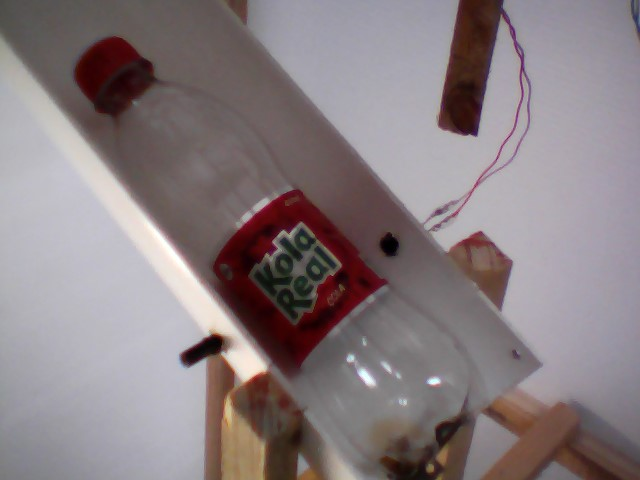plastico: (58, 30, 498, 480)
